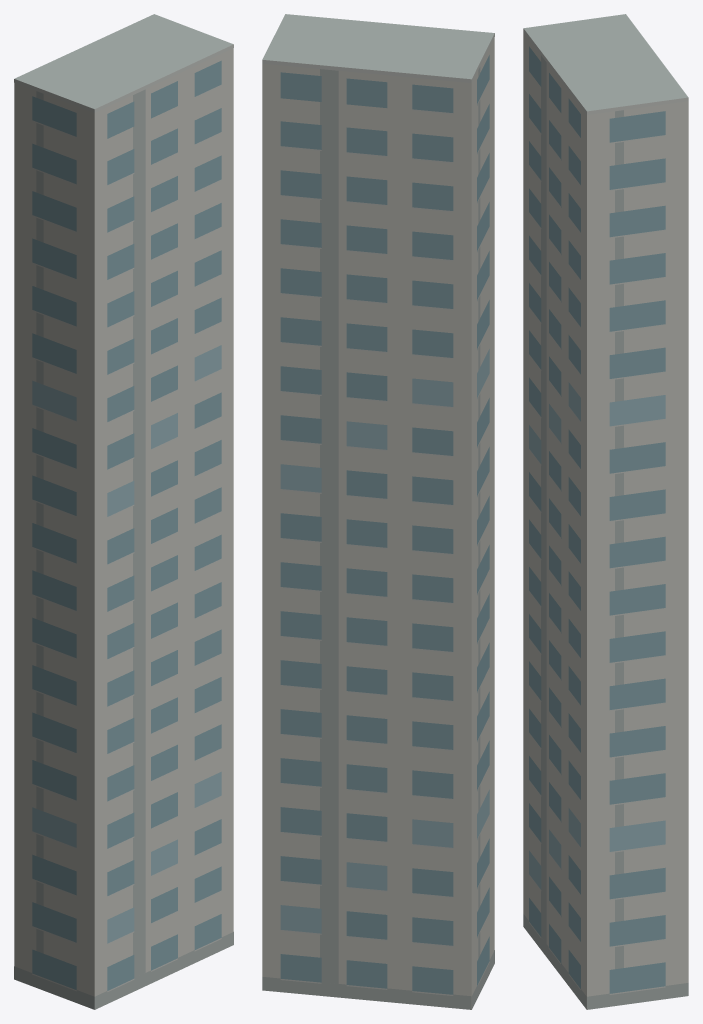
The model's file is survey-upis-32942221.glb.
The picture shows the model from 3 angles, left to right: view 1: azimuth 30°, elevation 25°; view 2: azimuth 150°, elevation 25°; view 3: azimuth 270°, elevation 25°; orthographic projection. The views are drawn at different scales.
Parts seen in each view (by area): view 1: survey-upis-32942221.tmp; view 2: survey-upis-32942221.tmp; view 3: survey-upis-32942221.tmp.
Part boxes in pixels (x1=…): survey-upis-32942221.tmp: x1=14, y1=14, x2=233, y2=1009; survey-upis-32942221.tmp: x1=262, y1=14, x2=494, y2=1009; survey-upis-32942221.tmp: x1=523, y1=14, x2=688, y2=1009.
Bounding box in the file's own units: 13.48 × 57.95 × 9.66.
